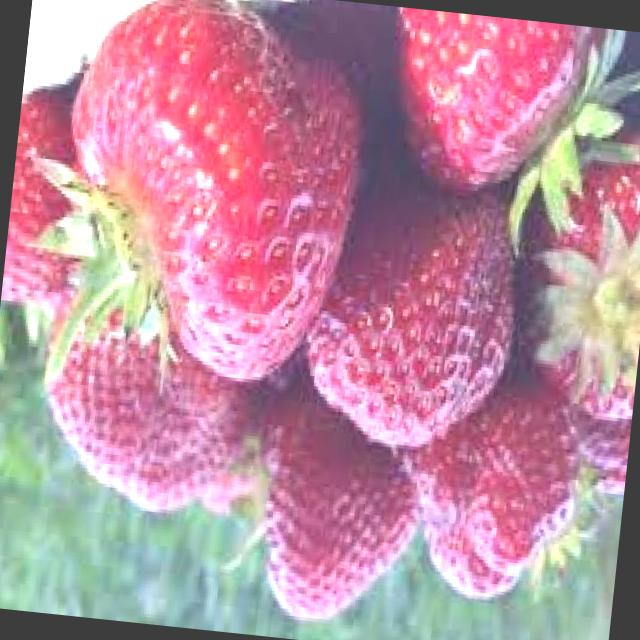Strawberry: (13, 0, 379, 418), (298, 162, 532, 462), (31, 285, 280, 526), (393, 366, 593, 612), (246, 388, 434, 634), (377, 10, 602, 208), (505, 107, 640, 425), (2, 80, 102, 315)
